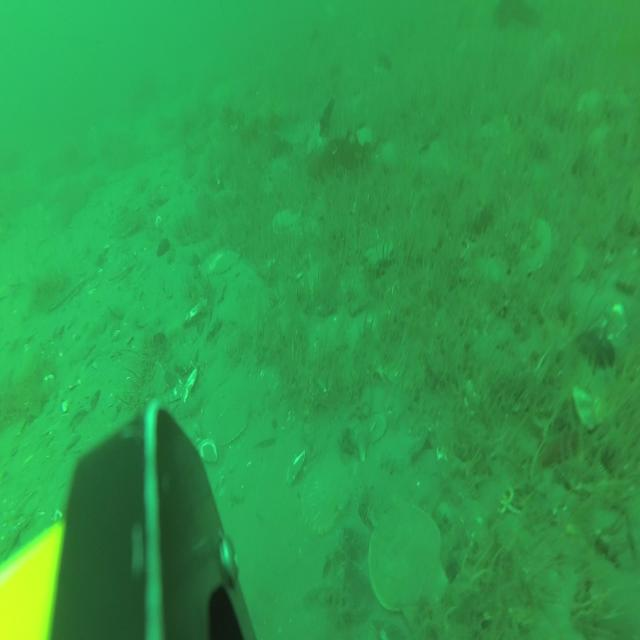scallop: (369, 500, 449, 634), (303, 452, 352, 537), (203, 379, 254, 449), (519, 216, 552, 276), (201, 245, 240, 275), (106, 252, 138, 284), (274, 207, 298, 238)
